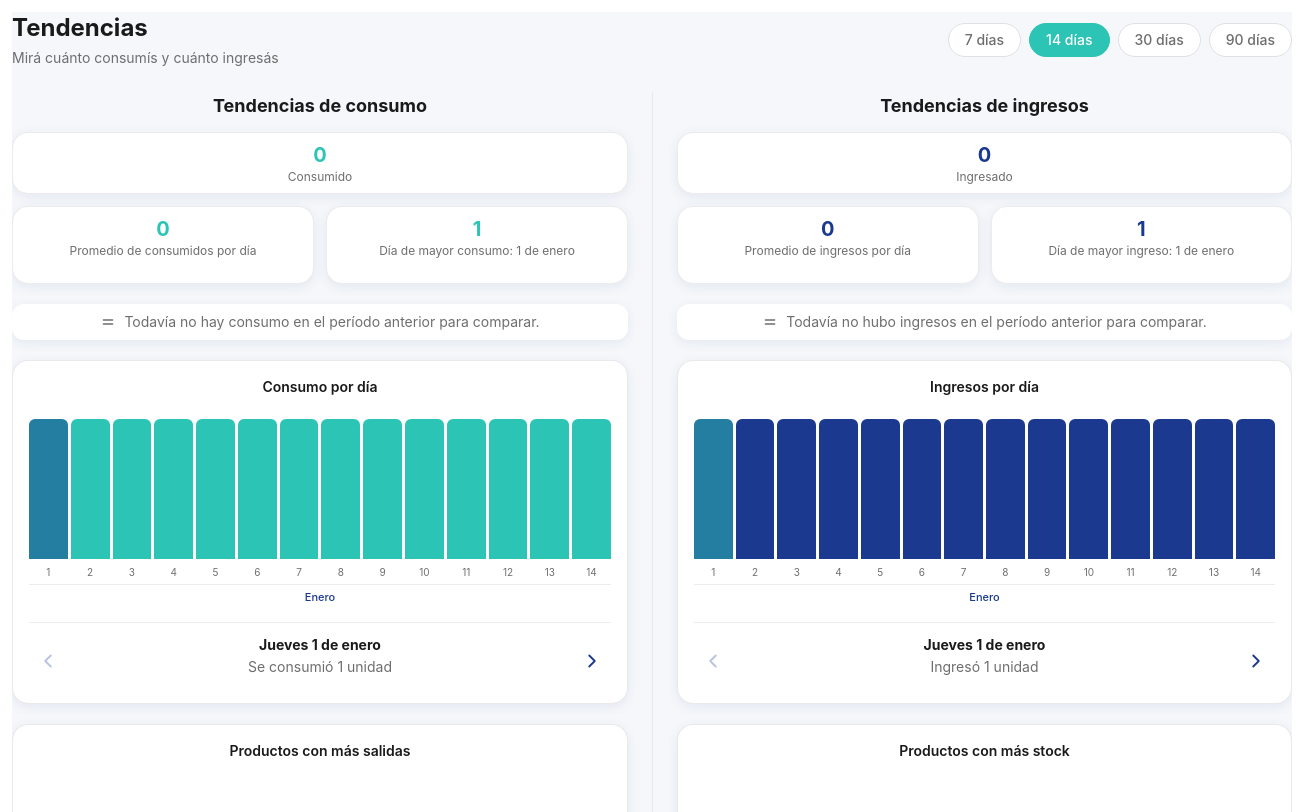
Test: Metricas (Tendencias) › el período se elige una sola vez y vale para las dos mitades
Click the button with test id "trends-period-90" at (1250, 40), box [1209, 23, 1292, 57]
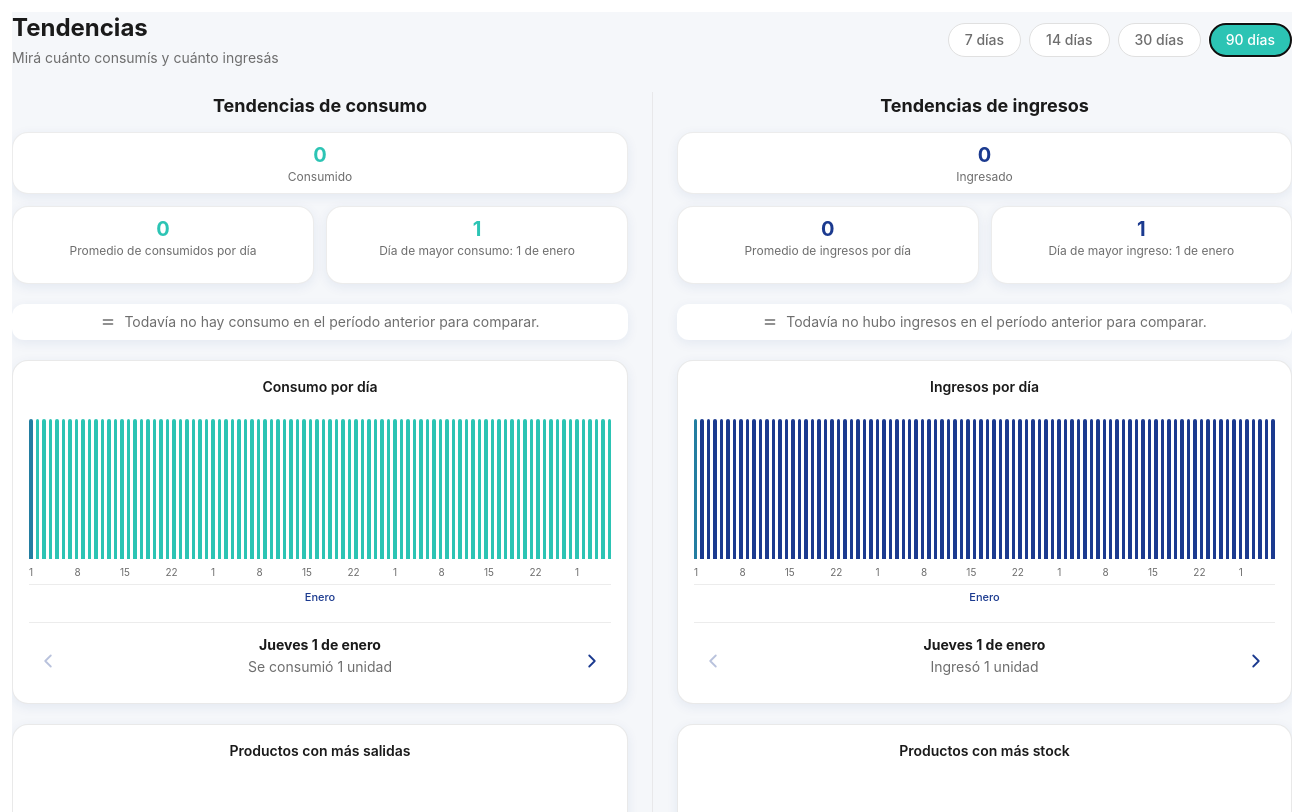
Check: the button with test id "incomes-bar-89" is shown, box [1271, 409, 1275, 559]
Check: the button with test id "trends-bar-89" is shown, box [608, 409, 611, 559]
